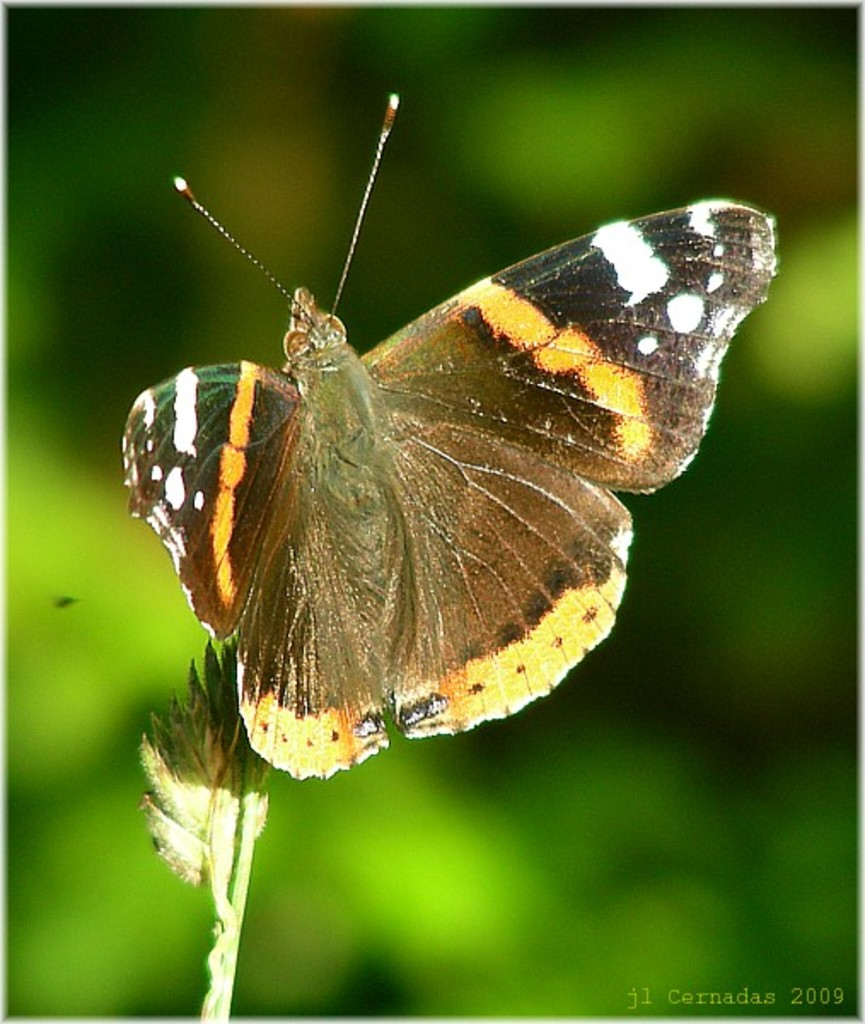Butterfly: (95, 220, 760, 788)
